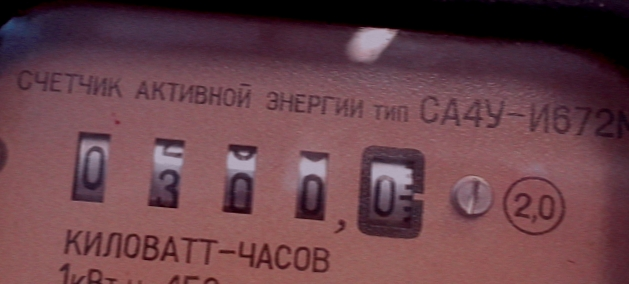0: (79, 141, 109, 195), (224, 168, 255, 218), (369, 172, 400, 222), (295, 172, 327, 220)
3: (152, 165, 183, 210)
screen: (49, 114, 437, 250)
